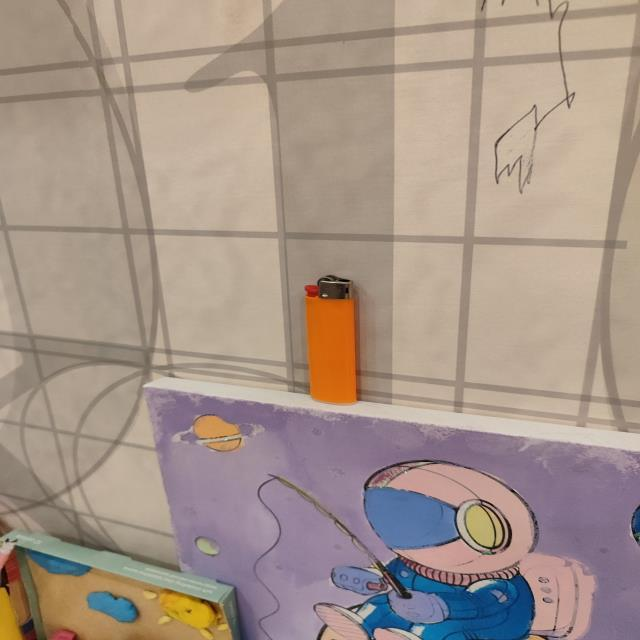lighter: (306, 275, 358, 402)
